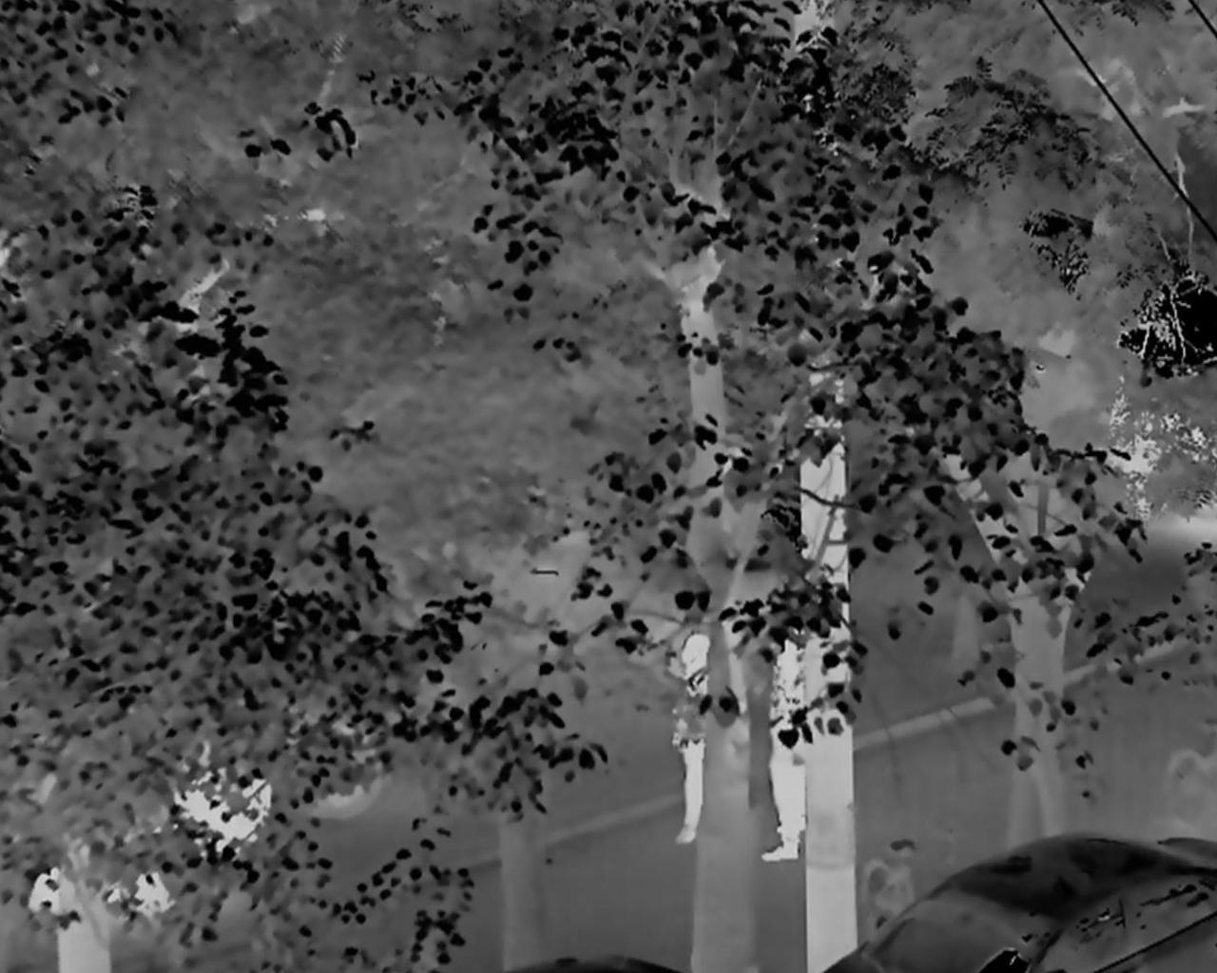person: (770, 626, 817, 868), (675, 631, 714, 850)
